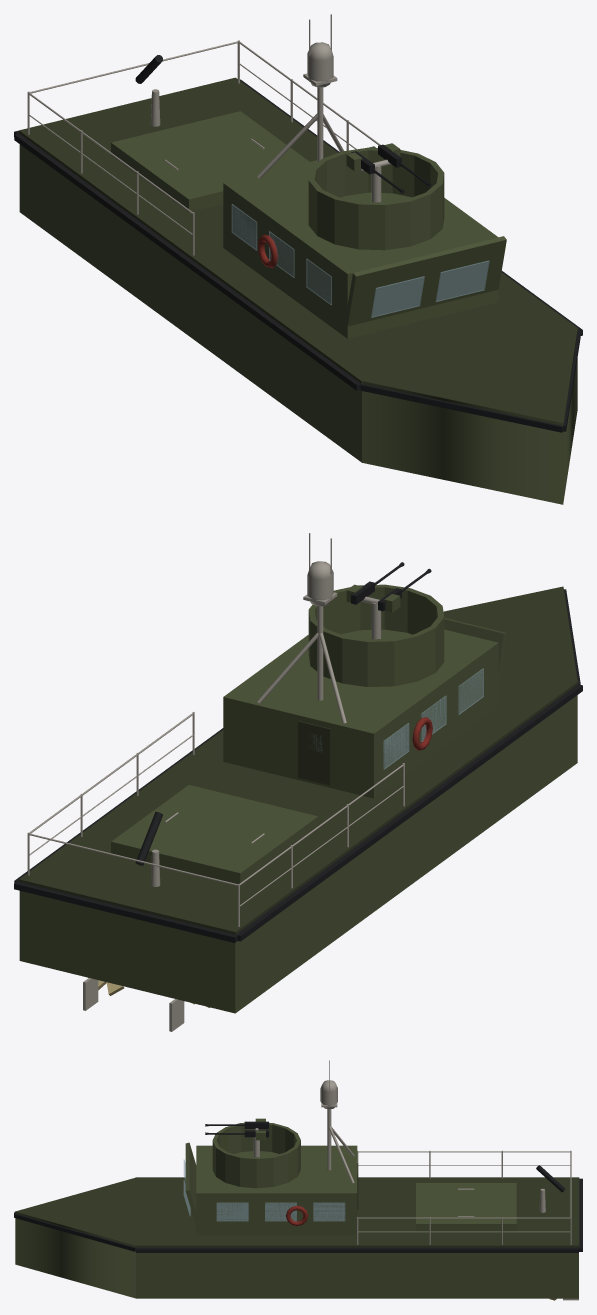
File: pcf-swift-boat-coastal.glb
3 renders of one model, top to bottom at view 1: azimuth 30°, elevation 25°; view 2: azimuth 150°, elevation 25°; view 3: azimuth 270°, elevation 25°, orthographic. The views are drawn at different scales.
Visible parts, largest first — view 1: Mesh_DeckMain, Mesh_HullMain, Mesh_CabinLower, Mesh_HullBow, Mesh_GunTubWall, Mesh_DeckBow, Mesh_EngineHatch, Mesh_WindshieldVisor, Mesh_RubRailRight, Mesh_RubRailBowRight, Mesh_WindshieldGlassL, Mesh_WindshieldGlassR (+4 smaller); view 2: Mesh_HullMain, Mesh_DeckMain, Mesh_CabinLower, Mesh_EngineHatch, Mesh_GunTubWall, Mesh_DeckBow, Mesh_RubRailRight, Mesh_RubRailTransom, Mesh_CabinDoorMesh, Mesh_WindshieldVisor, Mesh_Radome, Mesh_SideWindowR_-0.8 (+1 smaller); view 3: Mesh_HullMain, Mesh_DeckMain, Mesh_CabinLower, Mesh_HullBow, Mesh_EngineHatch, Mesh_GunTubWall, Mesh_DeckBow, Mesh_RubRailLeft, Mesh_WindshieldVisor, Mesh_SideWindowL_1.6, Mesh_SideWindowL_-0.8, Mesh_RubRailBowLeft (+2 smaller).
Boxes of the visible parts, x1,y1,x2,y2 form: Mesh_DeckMain: (19, 77, 578, 383); Mesh_HullMain: (19, 144, 361, 462); Mesh_CabinLower: (223, 146, 498, 338); Mesh_HullBow: (362, 358, 577, 504); Mesh_GunTubWall: (308, 147, 444, 250); Mesh_DeckBow: (362, 328, 577, 425); Mesh_EngineHatch: (111, 111, 309, 211); Mesh_WindshieldVisor: (347, 236, 506, 326); Mesh_RubRailRight: (14, 133, 361, 390); Mesh_RubRailBowRight: (360, 384, 563, 432); Mesh_WindshieldGlassL: (436, 260, 489, 301); Mesh_WindshieldGlassR: (371, 276, 424, 317); Mesh_HullMain: (19, 695, 577, 1013); Mesh_DeckMain: (19, 663, 578, 934); Mesh_CabinLower: (223, 629, 498, 798); Mesh_EngineHatch: (111, 785, 318, 885); Mesh_GunTubWall: (308, 584, 444, 686); Mesh_DeckBow: (443, 586, 577, 680); Mesh_RubRailRight: (236, 684, 582, 941); Mesh_RubRailTransom: (14, 881, 237, 942); Mesh_CabinDoorMesh: (298, 721, 330, 785); Mesh_WindshieldVisor: (444, 618, 506, 709); Mesh_Radome: (307, 561, 333, 606); Mesh_SideWindowR_-0.8: (383, 723, 409, 769); Mesh_HullMain: (136, 1253, 578, 1298); Mesh_DeckMain: (135, 1177, 579, 1247); Mesh_CabinLower: (196, 1145, 357, 1235); Mesh_HullBow: (15, 1218, 135, 1298); Mesh_EngineHatch: (416, 1183, 516, 1231); Mesh_GunTubWall: (212, 1122, 300, 1188); Mesh_DeckBow: (14, 1177, 136, 1247); Mesh_RubRailLeft: (136, 1247, 578, 1252); Mesh_WindshieldVisor: (185, 1142, 202, 1234); Mesh_SideWindowL_1.6: (216, 1202, 248, 1221); Mesh_SideWindowL_-0.8: (313, 1202, 345, 1221); Mesh_RubRailBowLeft: (14, 1213, 135, 1251).
Bounding box in the file's own units: 4.2 × 6.1 × 14.13.
2 materials, 2 textured.
